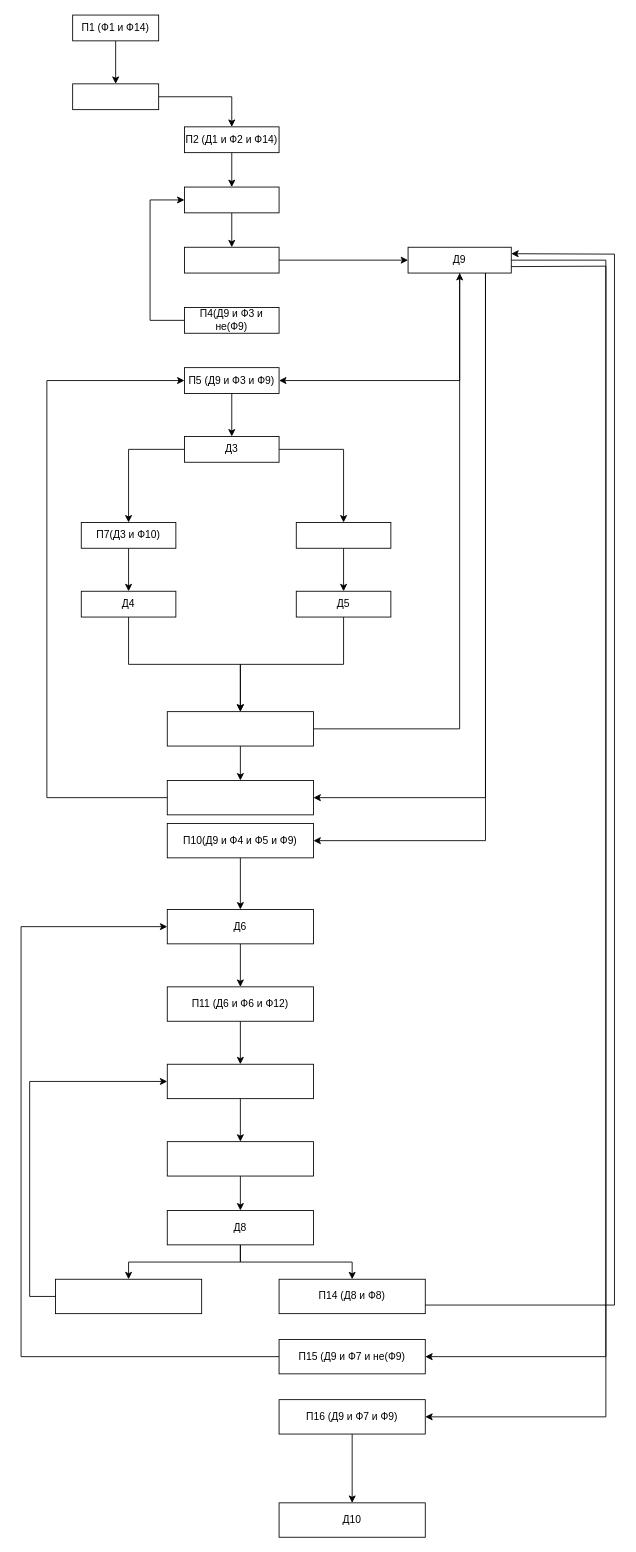
This 636x1552 diagram has some shape labels left out. The centre of each missing label's shape, as x and y in pixels:
"Д1" goes at (x=115, y=96).
"Д2" goes at (x=231, y=199).
"Д7" goes at (x=239, y=1081).
"П12 (Д7 и Ф7 и Ф13)" goes at (x=239, y=1158).
"П13 (Д8 и не(Ф8))" goes at (x=128, y=1296).
"П3 (Д2 и Ф3)" goes at (x=231, y=259).
"П7(Д3 и Ф11)" goes at (x=343, y=535).
"П8(Д3 и Д4 и Ф4 и Ф5)" goes at (x=239, y=728).
"П9(Д9 и Ф4 и Ф5 и не(Ф9))" goes at (x=239, y=797).
